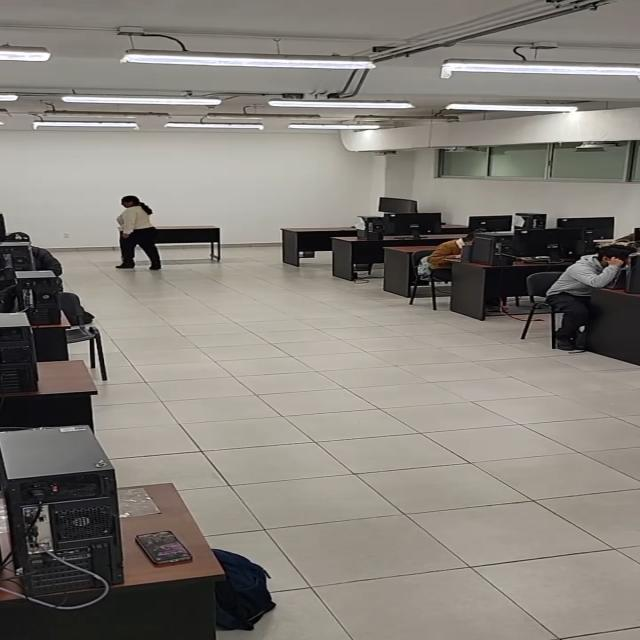Persona: (112, 195, 164, 270)
